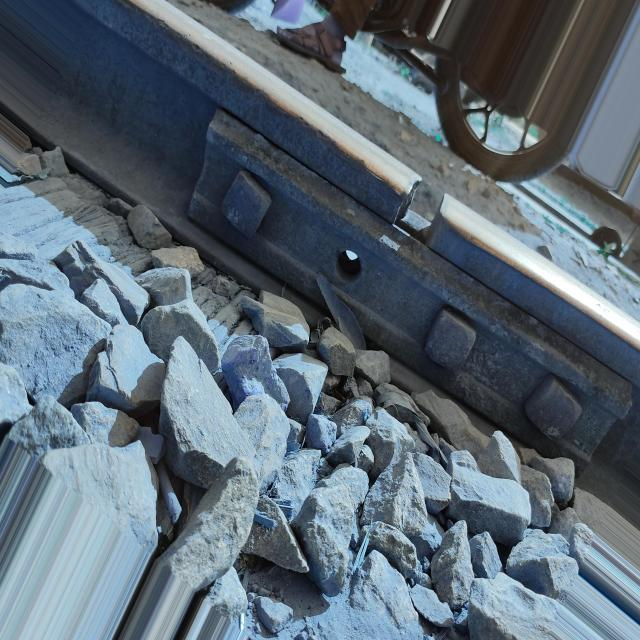Defective Joint: (188, 109, 632, 472)
